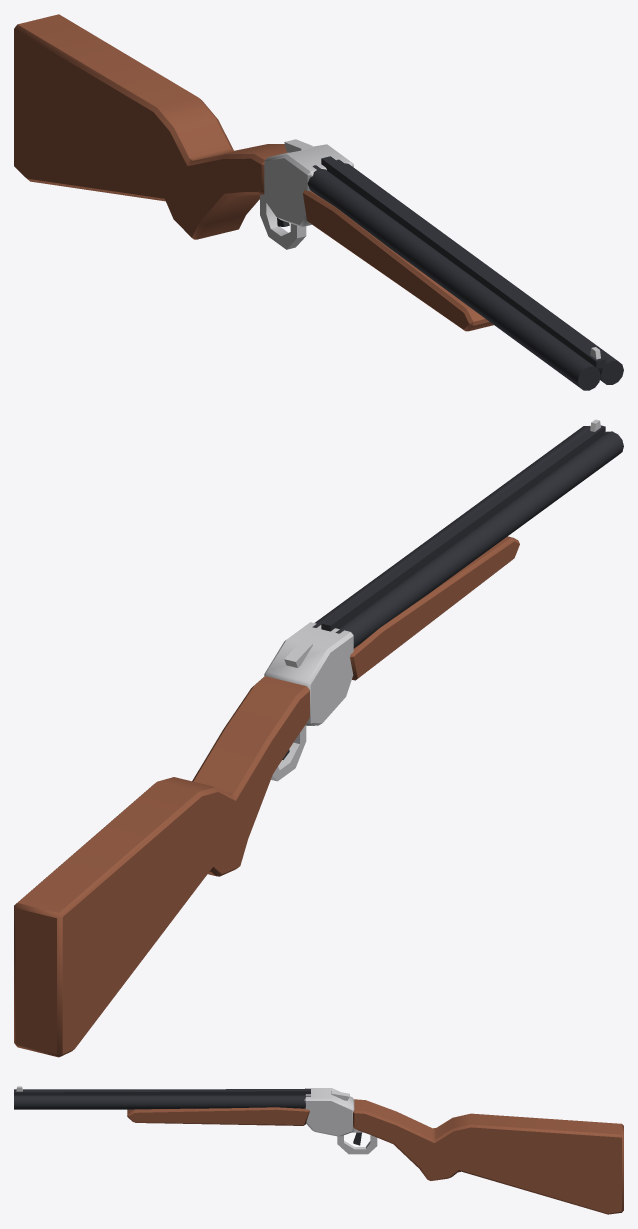
File: DoubleBarrel.fbx
The picture shows the model from 3 angles, top to bottom: view 1: azimuth 30°, elevation 25°; view 2: azimuth 150°, elevation 25°; view 3: azimuth 270°, elevation 25°; orthographic projection. The views are drawn at different scales.
Parts seen in each view (by area): view 1: DoubleBarrel; view 2: DoubleBarrel; view 3: DoubleBarrel.
Boxes of the visible parts, x1,y1,x2,y2 form: DoubleBarrel: [14, 14, 623, 390]; DoubleBarrel: [14, 419, 623, 1057]; DoubleBarrel: [14, 1086, 623, 1214].
Size of the model in its own units: 0.044 by 0.1871 by 0.8468.
